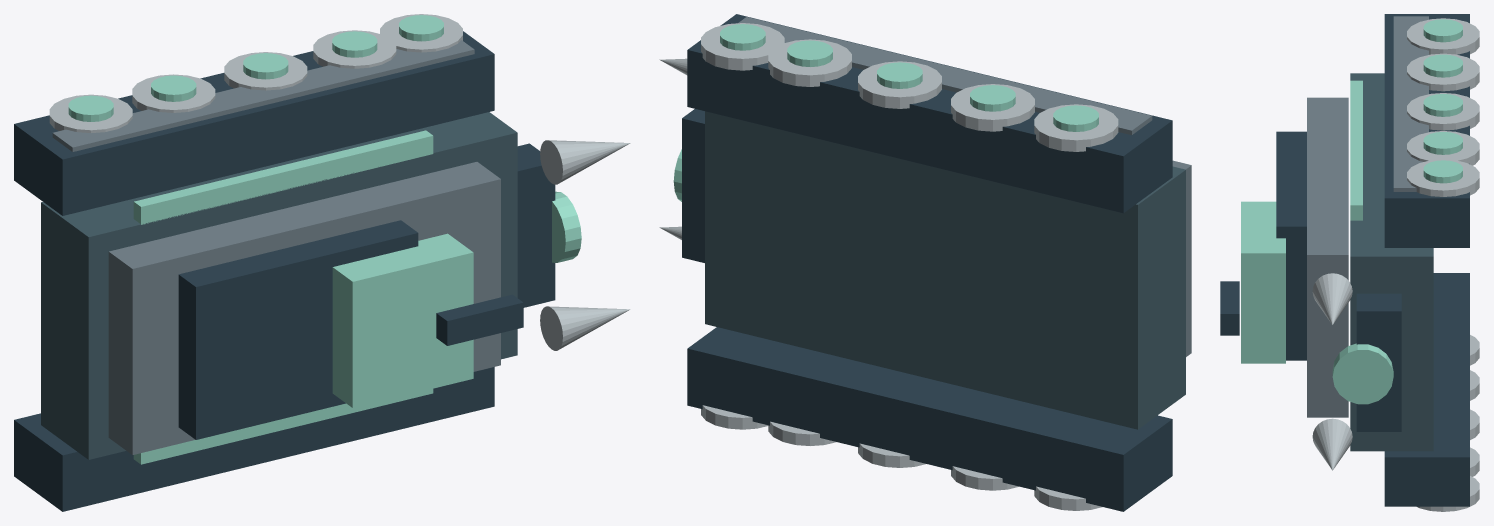
The model's file is DEVIL-01.glb.
The picture shows the model from 3 angles, left to right: view 1: azimuth 30°, elevation 25°; view 2: azimuth 150°, elevation 25°; view 3: azimuth 270°, elevation 25°; orthographic projection. The views are drawn at different scales.
Visible parts, largest first — view 1: world; view 2: world; view 3: world.
Boxes of the visible parts, x1,y1,x2,y2 form: world: [14, 14, 630, 511]; world: [659, 14, 1191, 511]; world: [1220, 14, 1479, 511].
Size of the model in its own units: 3.39 by 2.3 by 1.62.
